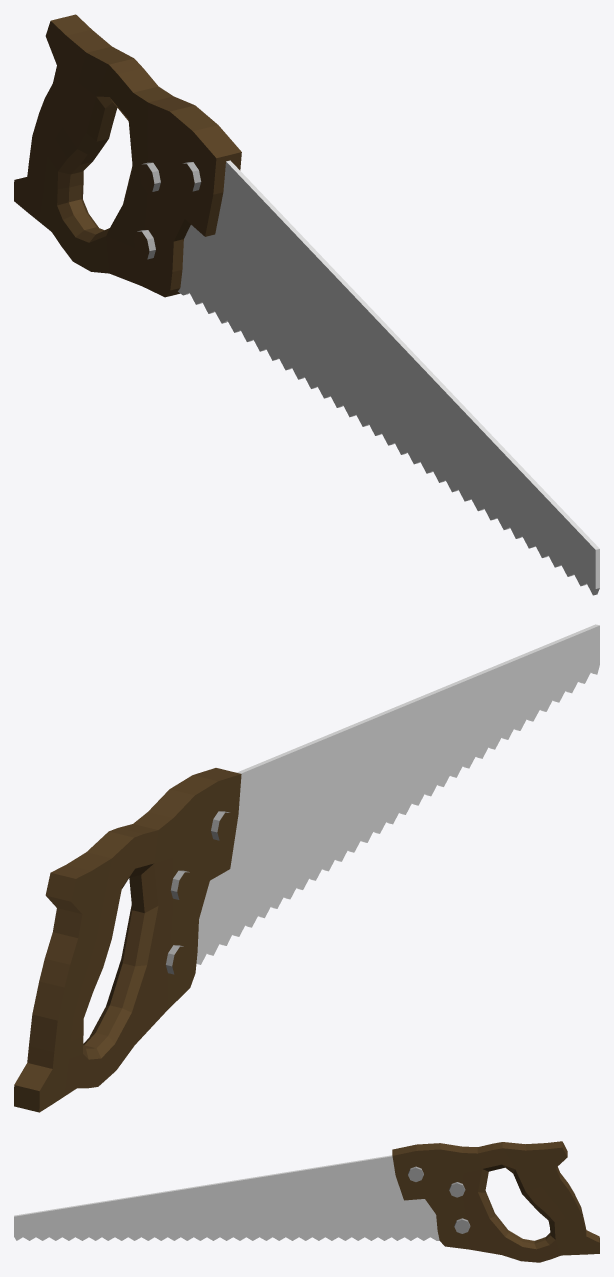
The model's file is saw-big.glb.
3 views of the same model, one above another, from view 1: azimuth 30°, elevation 25°; view 2: azimuth 150°, elevation 25°; view 3: azimuth 270°, elevation 25° (orthographic). The views are drawn at different scales.
Visible parts, largest first — view 1: saw_big; view 2: saw_big; view 3: saw_big.
Boxes of the visible parts, x1,y1,x2,y2 form: saw_big: [14, 14, 599, 595]; saw_big: [14, 624, 599, 1112]; saw_big: [14, 1141, 599, 1262].
Bounding box in the file's own units: 0.9402 × 5.36 × 24.7.
